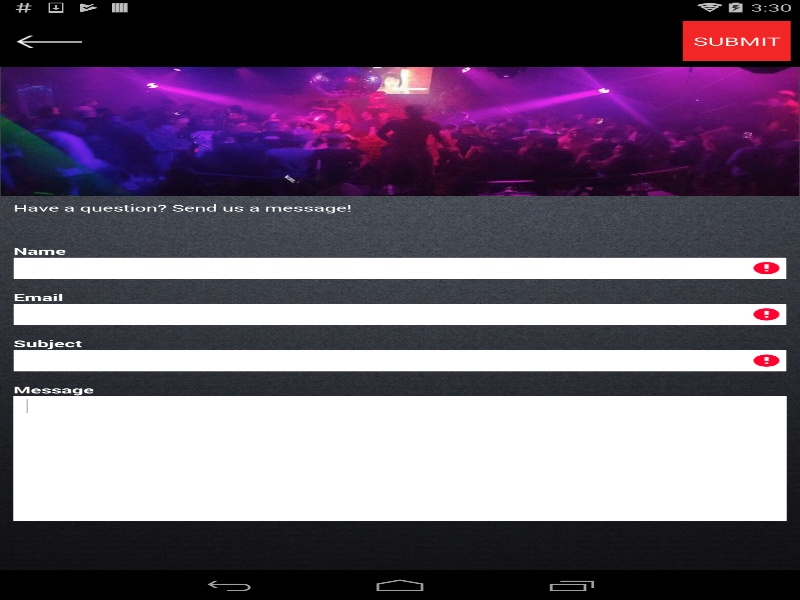Button: (682, 21, 790, 61), (16, 35, 82, 47)
Input: (13, 396, 786, 521), (13, 257, 786, 279), (13, 303, 786, 325), (13, 350, 786, 371)
